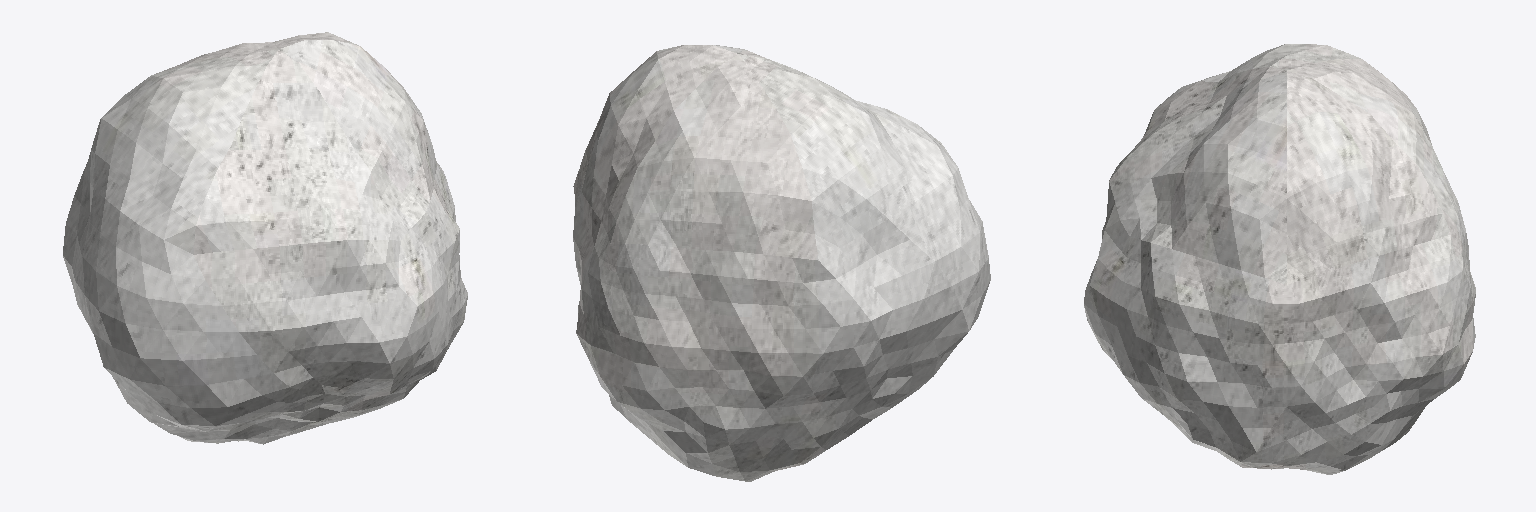
3 renders of one model, left to right at view 1: azimuth 30°, elevation 25°; view 2: azimuth 150°, elevation 25°; view 3: azimuth 270°, elevation 25°, orthographic.
Visible parts, largest first — view 1: Icosphere; view 2: Icosphere; view 3: Icosphere.
Part boxes in pixels (x1,y1,x2,y2): Icosphere: (63, 32, 467, 444); Icosphere: (573, 45, 990, 481); Icosphere: (1084, 44, 1475, 474).
Size of the model in its own units: 2.02 by 2.1 by 1.87.
1 materials, 1 textured.